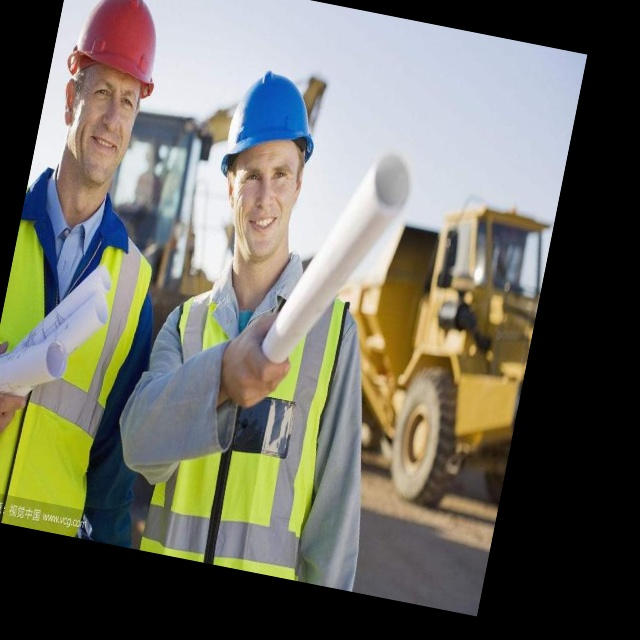Con_Casco: (213, 65, 322, 257)
Con_Chaleco: (129, 277, 386, 584), (0, 177, 170, 533)
